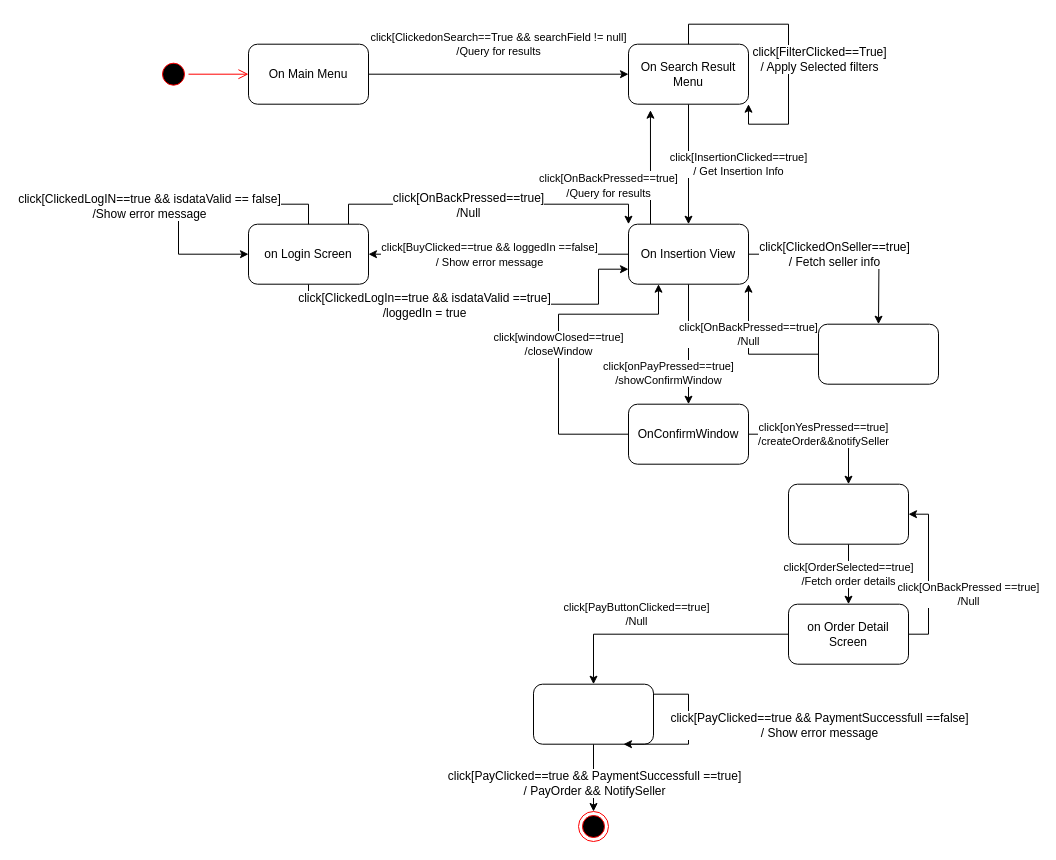
This 1056x860 diagram has some shape labels left out. The shapes that lost their labels are listed below. From the top down, each one's centre as x and y in pixels, then its label:
(878,353): On Seller Info View
(848,513): on Order Screen
(593,713): On Payment System Window
